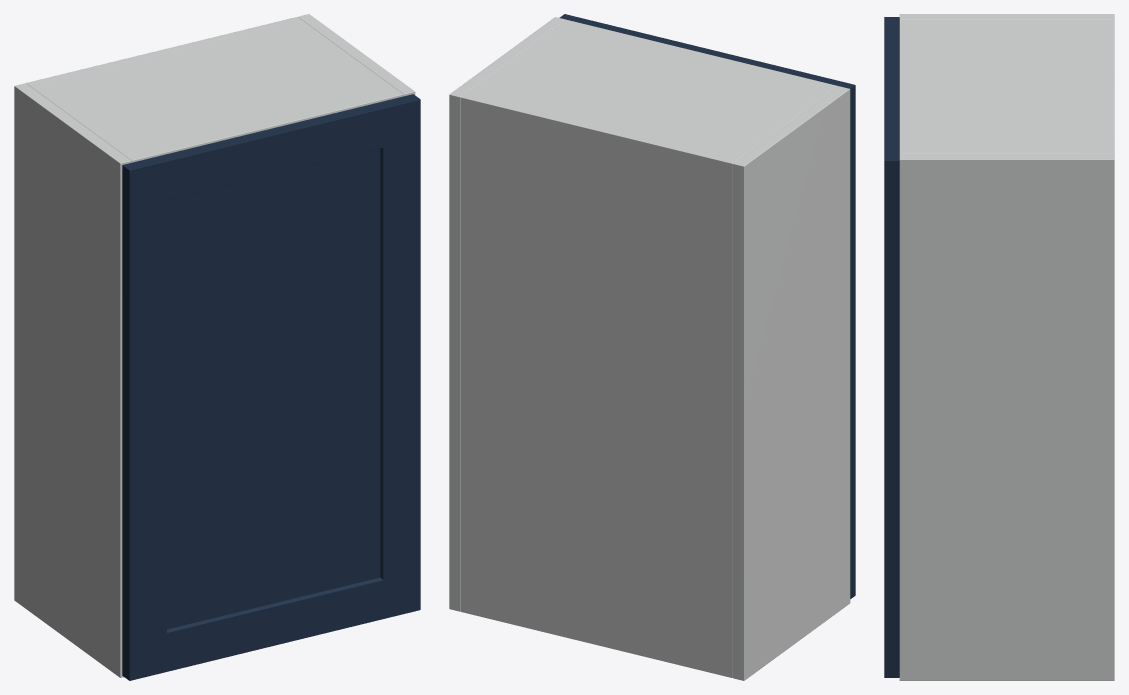
The model's file is oppein-pb-bss-w1830.glb.
The picture shows the model from 3 angles, left to right: view 1: azimuth 30°, elevation 25°; view 2: azimuth 150°, elevation 25°; view 3: azimuth 270°, elevation 25°; orthographic projection.
Parts seen in each view (by area): view 1: Door, Cabinet side, Cabinet top, Cabinet side.001, Cabinet back; view 2: Cabinet back, Cabinet side, Cabinet top, Cabinet side.001, Door; view 3: Cabinet side.001, Cabinet top, Door, Cabinet side, Cabinet back.
Part boxes in pixels (bbox=[...]): Door: bbox=[122, 94, 420, 680]; Cabinet side: bbox=[14, 83, 131, 677]; Cabinet top: bbox=[26, 17, 403, 162]; Cabinet side.001: bbox=[298, 14, 415, 96]; Cabinet back: bbox=[27, 17, 300, 85]; Cabinet back: bbox=[461, 94, 736, 677]; Cabinet side: bbox=[732, 86, 850, 680]; Cabinet top: bbox=[461, 20, 838, 172]; Cabinet side.001: bbox=[449, 17, 566, 611]; Door: bbox=[559, 14, 855, 598]; Cabinet side.001: bbox=[899, 154, 1114, 680]; Cabinet top: bbox=[899, 19, 1114, 153]; Door: bbox=[884, 17, 899, 677]; Cabinet side: bbox=[899, 14, 1114, 19]; Cabinet back: bbox=[1106, 19, 1114, 153].
Bounding box in the file's own units: 0.4572 × 0.762 × 0.3048.
